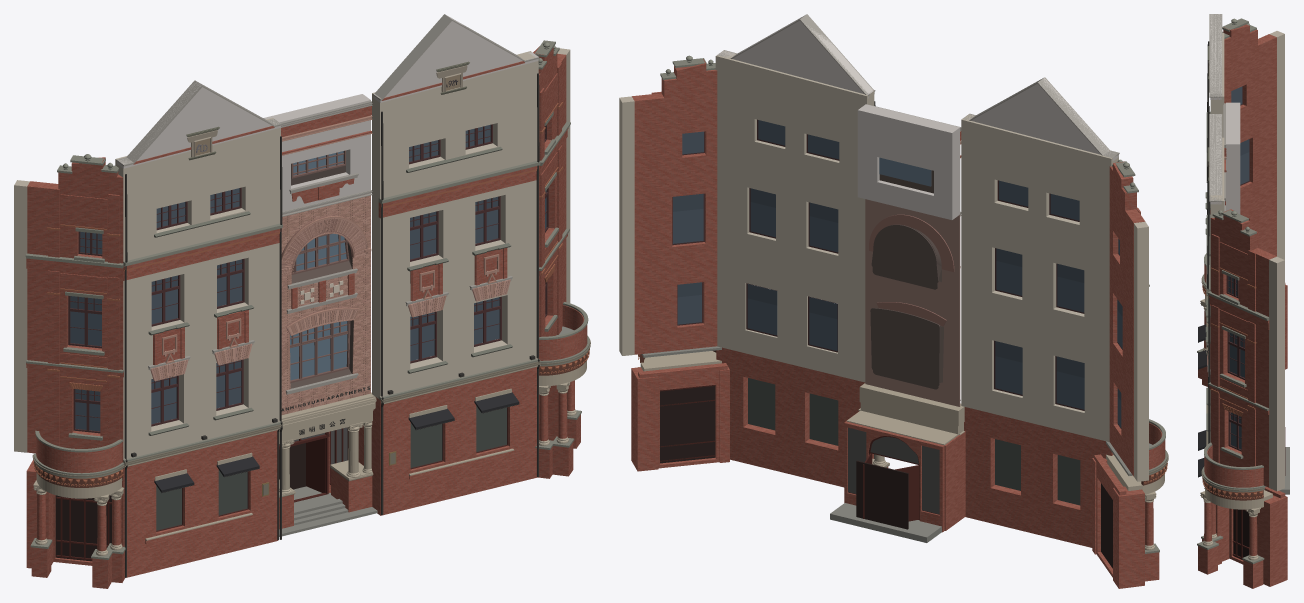
Rendered from huangpu-yuanmingyuan-apartments-street-front-lod.glb.
3 renders of one model, left to right at view 1: azimuth 30°, elevation 25°; view 2: azimuth 150°, elevation 25°; view 3: azimuth 270°, elevation 25°, orthographic. The views are drawn at different scales.
Visible parts, largest first — view 1: 圆明园公寓东立面与切角柱廊; view 2: 圆明园公寓东立面与切角柱廊; view 3: 圆明园公寓东立面与切角柱廊.
Boxes of the visible parts, bbox=[...] form: 圆明园公寓东立面与切角柱廊: bbox=[14, 14, 590, 588]; 圆明园公寓东立面与切角柱廊: bbox=[619, 14, 1168, 588]; 圆明园公寓东立面与切角柱廊: bbox=[1197, 14, 1289, 588].
Size of the model in its own units: 31.42 by 25.89 by 5.3.
44 materials, 1 textured.
